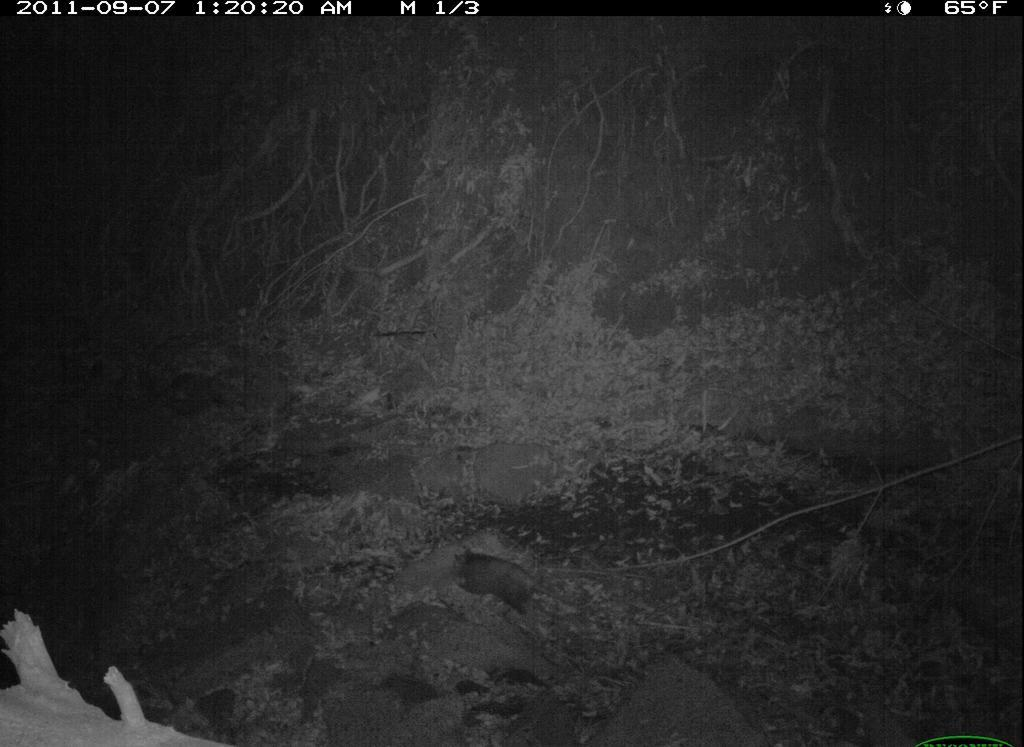opossum: (446, 537, 588, 632)
